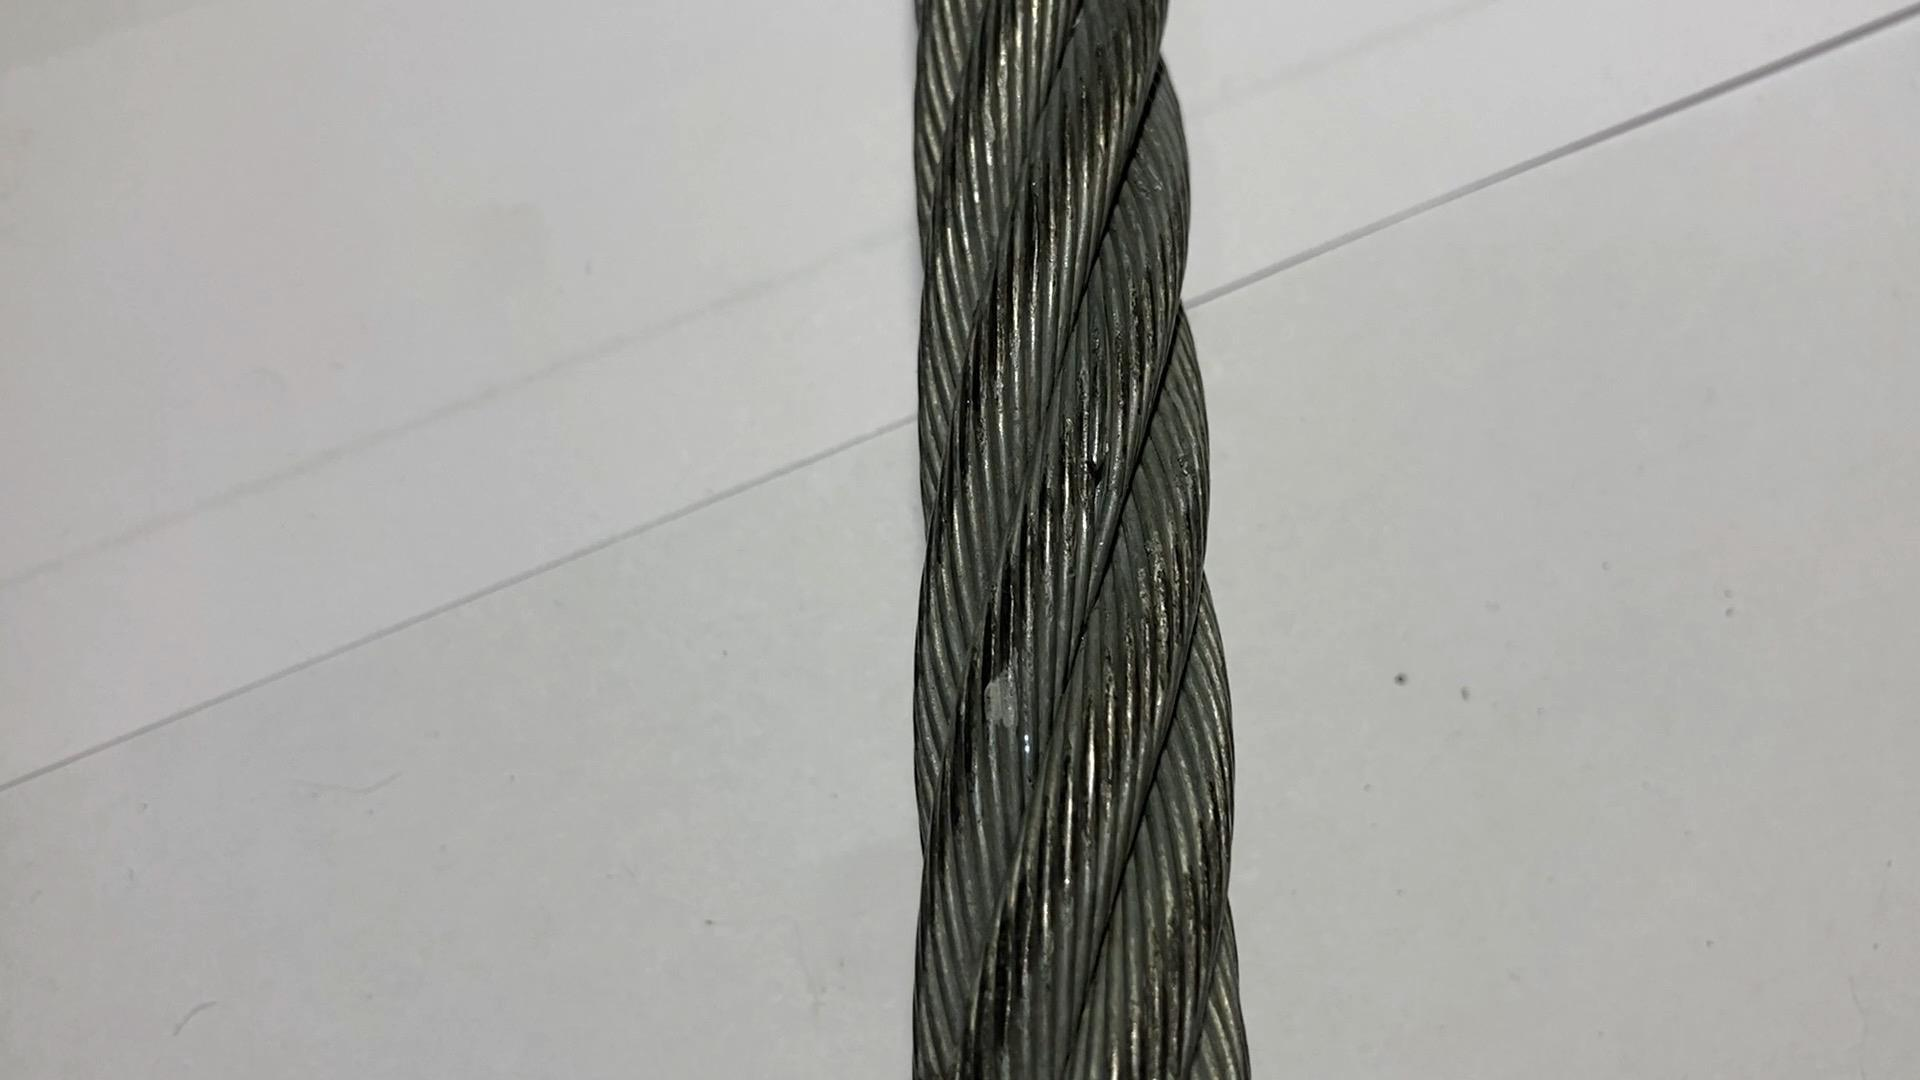break: (1065, 410, 1125, 504)
